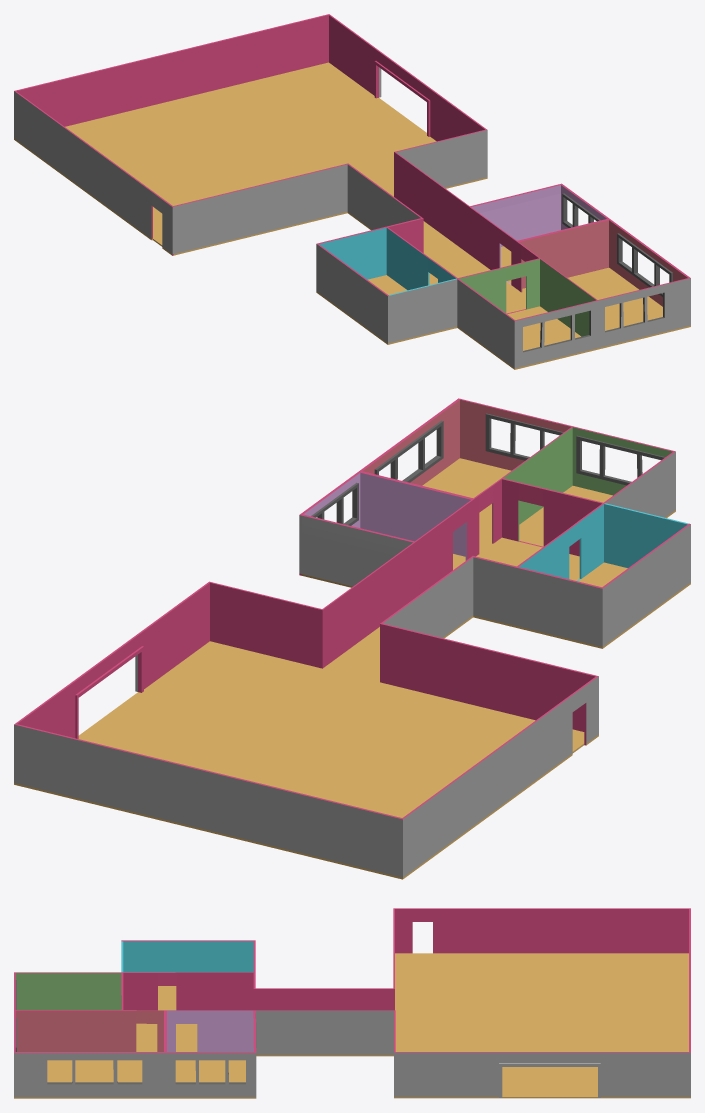
The model's file is casa para juego.fbx.
3 views of the same model, one above another, from view 1: azimuth 30°, elevation 25°; view 2: azimuth 150°, elevation 25°; view 3: azimuth 270°, elevation 25° (orthographic). The views are drawn at different scales.
Visible parts, largest first — view 1: Cube.002; view 2: Cube.002; view 3: Cube.002.
Part boxes in pixels (x1,y1,x2,y2): Cube.002: (14,14,690,369); Cube.002: (14,398,690,879); Cube.002: (14,908,690,1098).
Size of the model in its own units: 61004 by 8954 by 120044.
